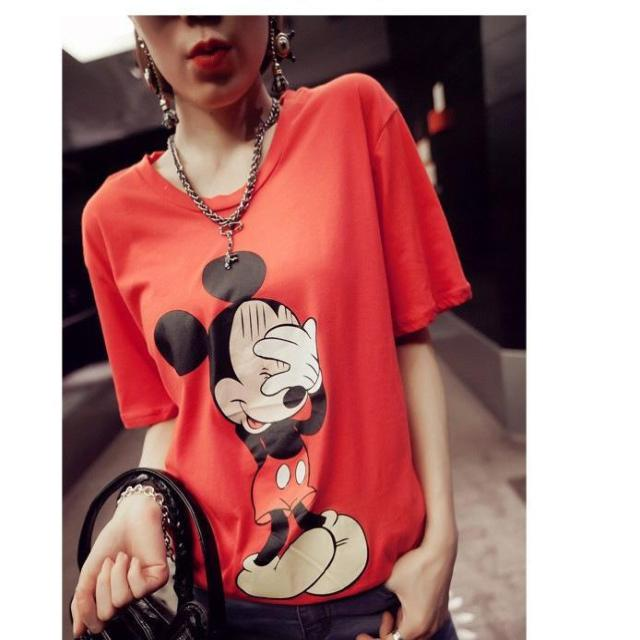short sleeve top: (85, 77, 471, 607)
